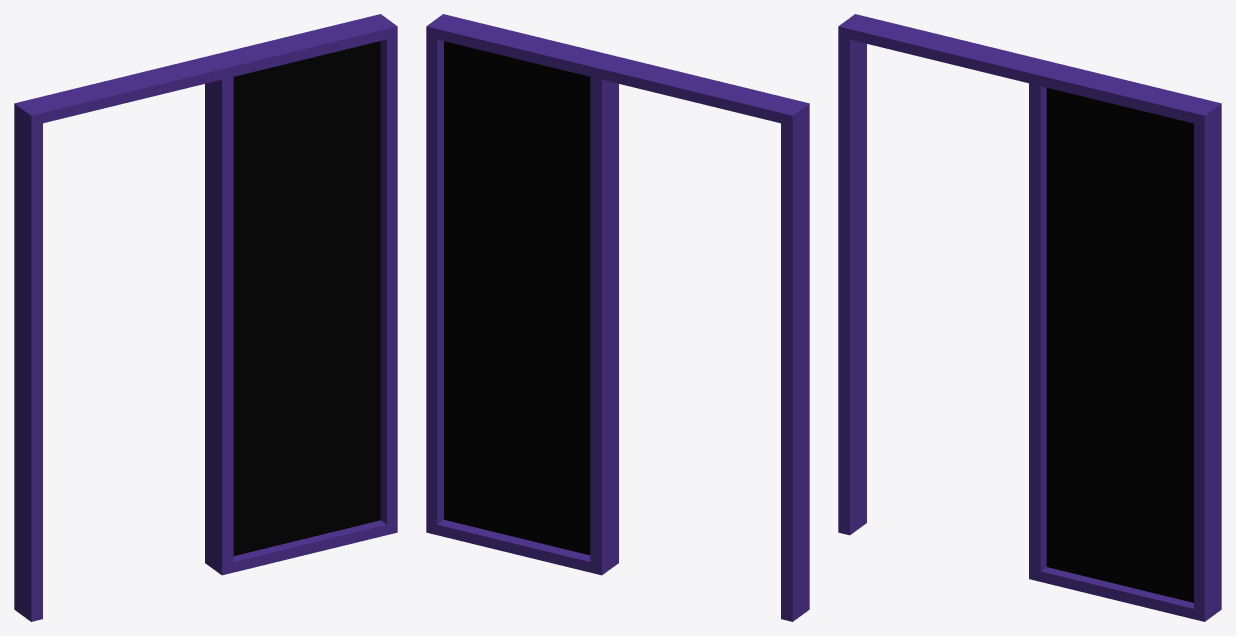
Rendered from wall_frame1.fbx.
3 renders of one model, left to right at view 1: azimuth 30°, elevation 25°; view 2: azimuth 150°, elevation 25°; view 3: azimuth 330°, elevation 25°, orthographic.
Parts seen in each view (by area): view 1: glass3, wall_frame1; view 2: glass3, wall_frame1; view 3: glass3, wall_frame1.
Part boxes in pixels (x1,y1,x2,y2): glass3: (233, 41, 380, 555); wall_frame1: (14, 14, 397, 621); glass3: (444, 41, 590, 555); wall_frame1: (426, 14, 809, 621); glass3: (1046, 88, 1193, 602); wall_frame1: (838, 14, 1221, 621).
Bounding box in the file's own units: 211 × 279 × 16.89.
